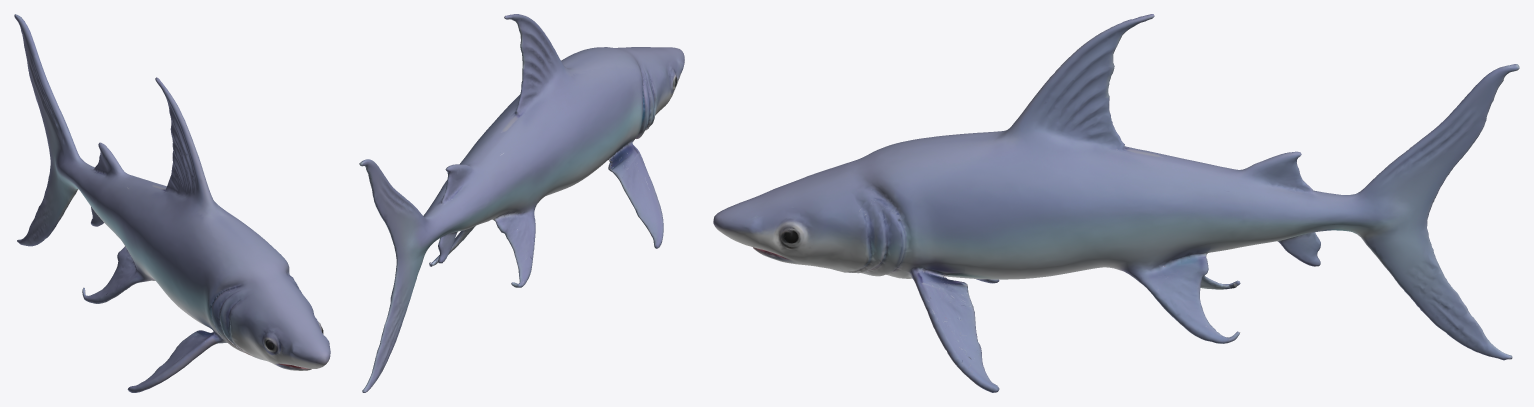
Rendered from shark.glb.
3 views of the same model, side by side, from view 1: azimuth 30°, elevation 25°; view 2: azimuth 150°, elevation 25°; view 3: azimuth 270°, elevation 25° (orthographic). The views are drawn at different scales.
Size of the model in its own units: 0.6269 by 0.897 by 1.9.
1 material, 1 textured.
